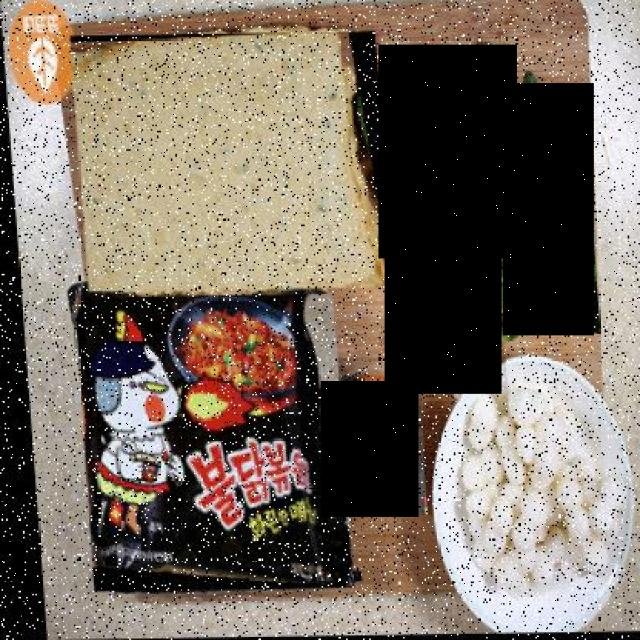Chili_Pepper: (503, 84, 594, 336)
Onion: (384, 259, 502, 393)
Onion_Leaves: (378, 45, 517, 258)
Potato: (320, 380, 418, 517)
